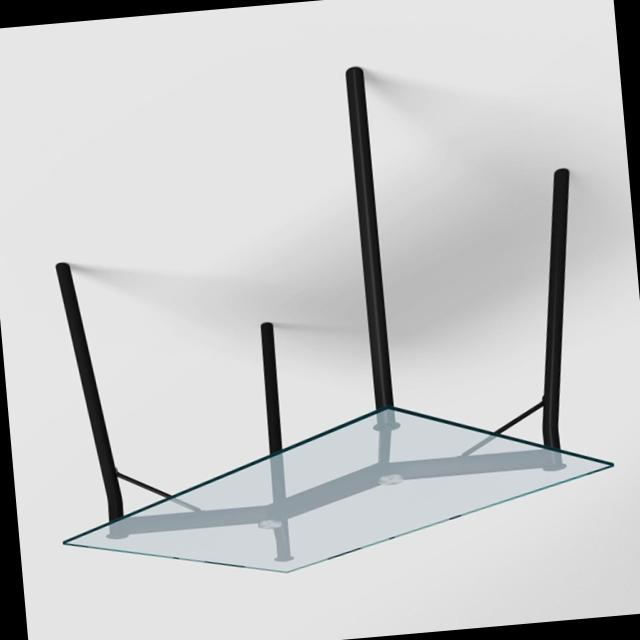glass: (33, 383, 616, 593)
